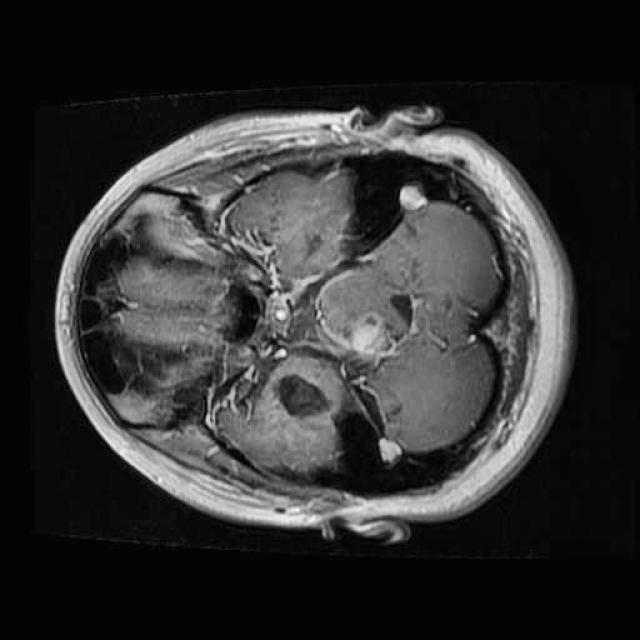Tumor: (305, 251, 433, 371)
